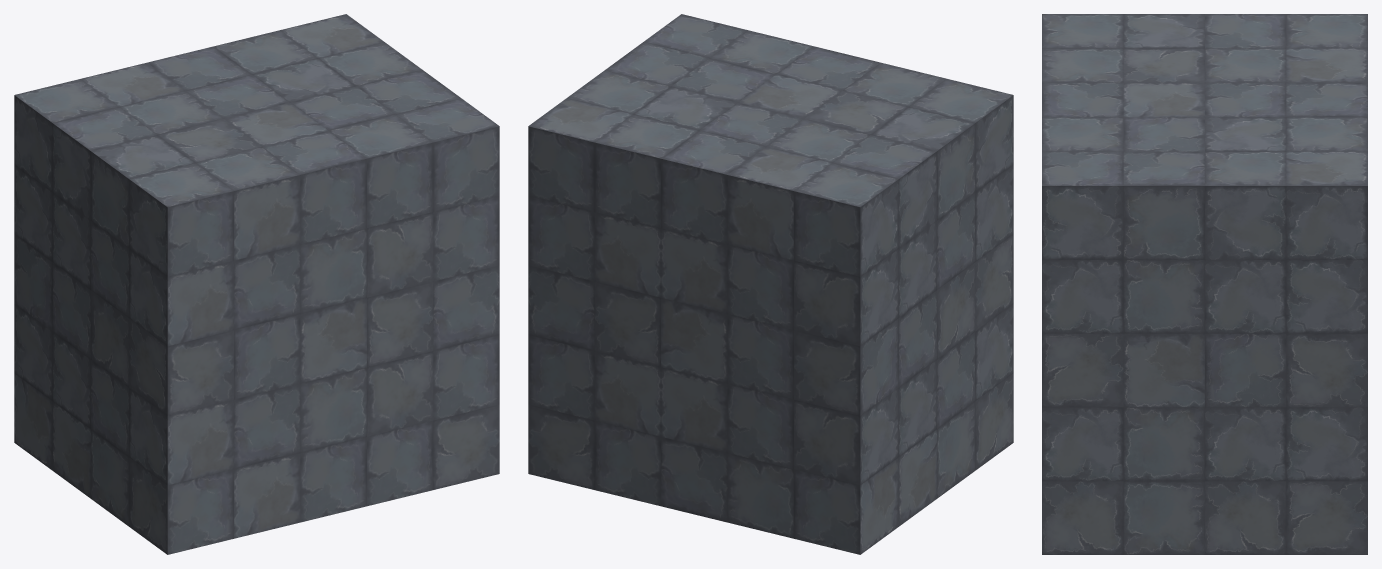
The model's file is Castle Block 5x4x5.fbx.
The picture shows the model from 3 angles, left to right: view 1: azimuth 30°, elevation 25°; view 2: azimuth 150°, elevation 25°; view 3: azimuth 270°, elevation 25°; orthographic projection. The views are drawn at different scales.
Parts seen in each view (by area): view 1: Castle Block 5x4x5; view 2: Castle Block 5x4x5; view 3: Castle Block 5x4x5.
Part boxes in pixels (bbox=[...]): Castle Block 5x4x5: bbox=[14, 14, 499, 554]; Castle Block 5x4x5: bbox=[528, 14, 1013, 554]; Castle Block 5x4x5: bbox=[1042, 14, 1367, 554].
Bounding box in the file's own units: 3.75 × 3.75 × 3.
